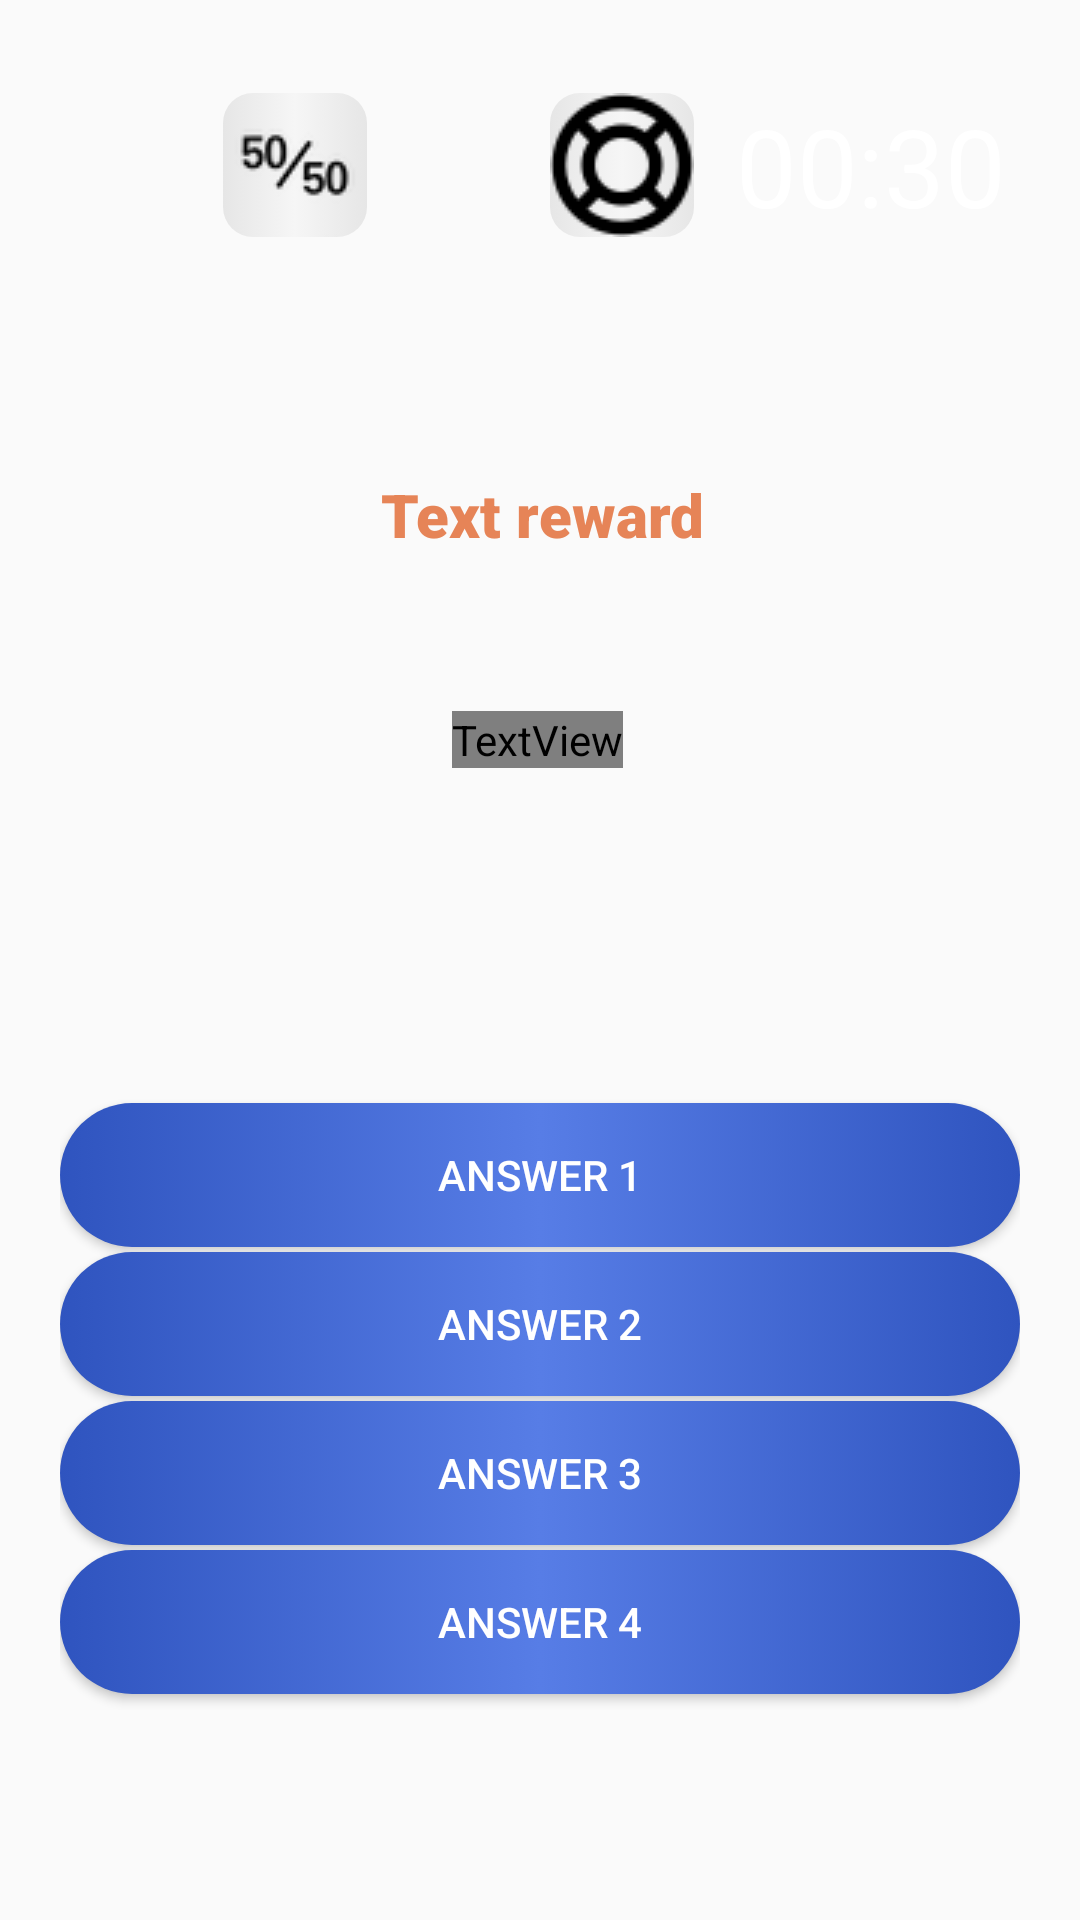

Icons on this 1080w x 1920h Android screen, each with its box as region(x1, y1, x2, y2):
Это ваш спасательный круг, если вы ответите неверно: region(550, 93, 694, 237)
